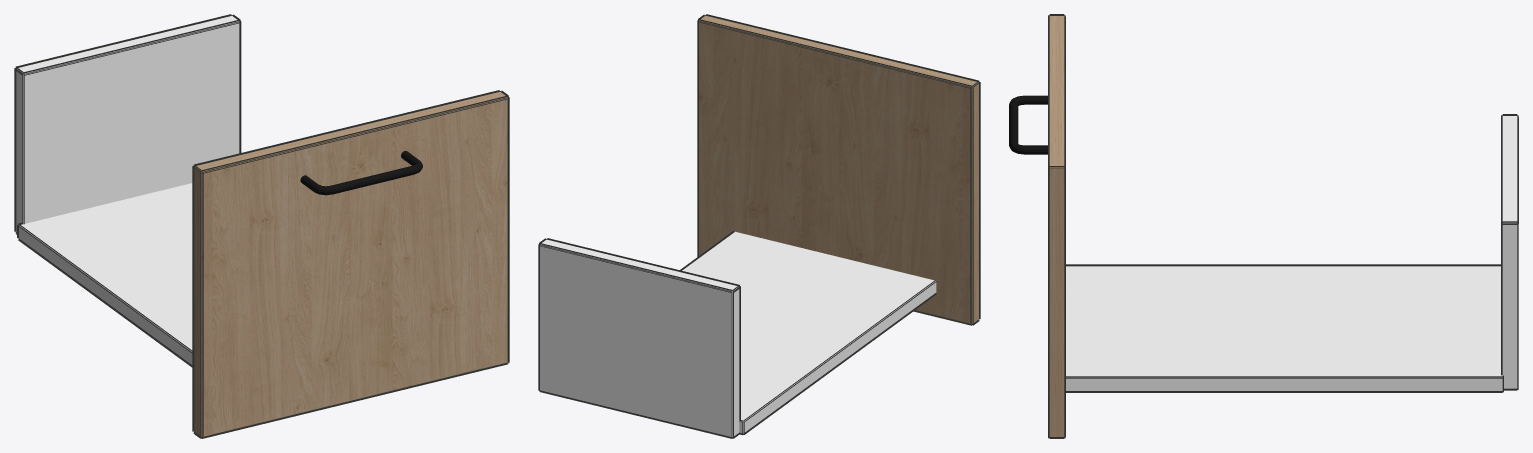
The model's file is skuff1.glb.
The picture shows the model from 3 angles, left to right: view 1: azimuth 30°, elevation 25°; view 2: azimuth 150°, elevation 25°; view 3: azimuth 270°, elevation 25°; orthographic projection. The views are drawn at different scales.
Bounding box in the file's own units: 393 × 326 × 554.
Materials: 7 (4 with a texture image).
